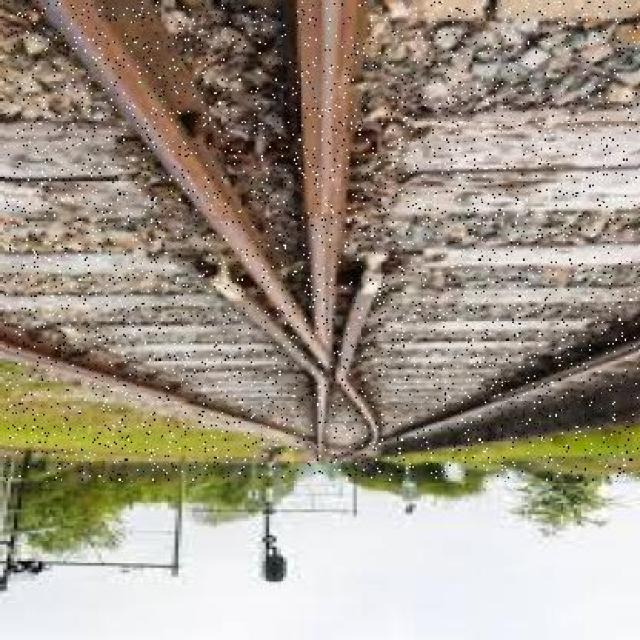rail: (5, 2, 638, 481)
